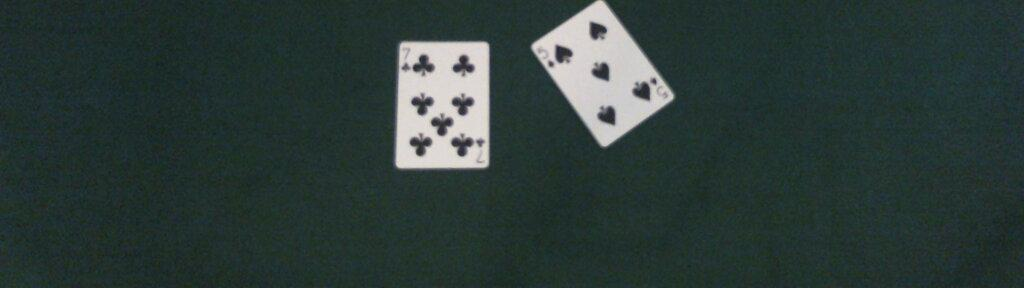five: (528, 1, 675, 149)
seven: (393, 41, 491, 171)
